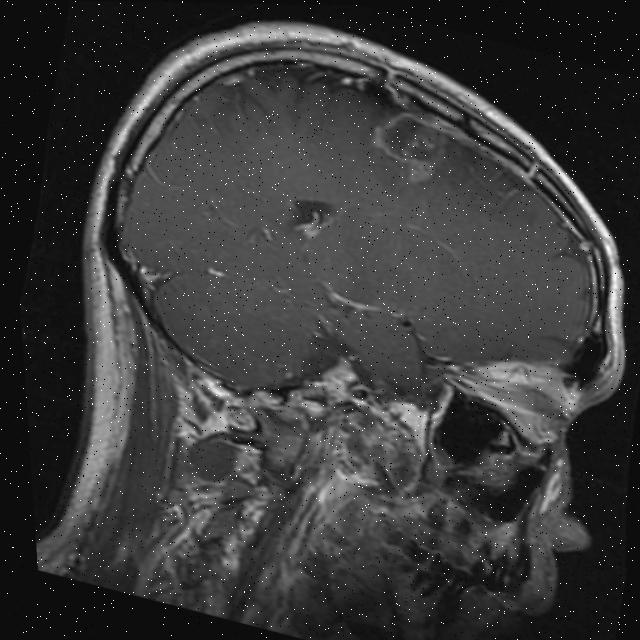Glioma: (360, 100, 457, 189)
